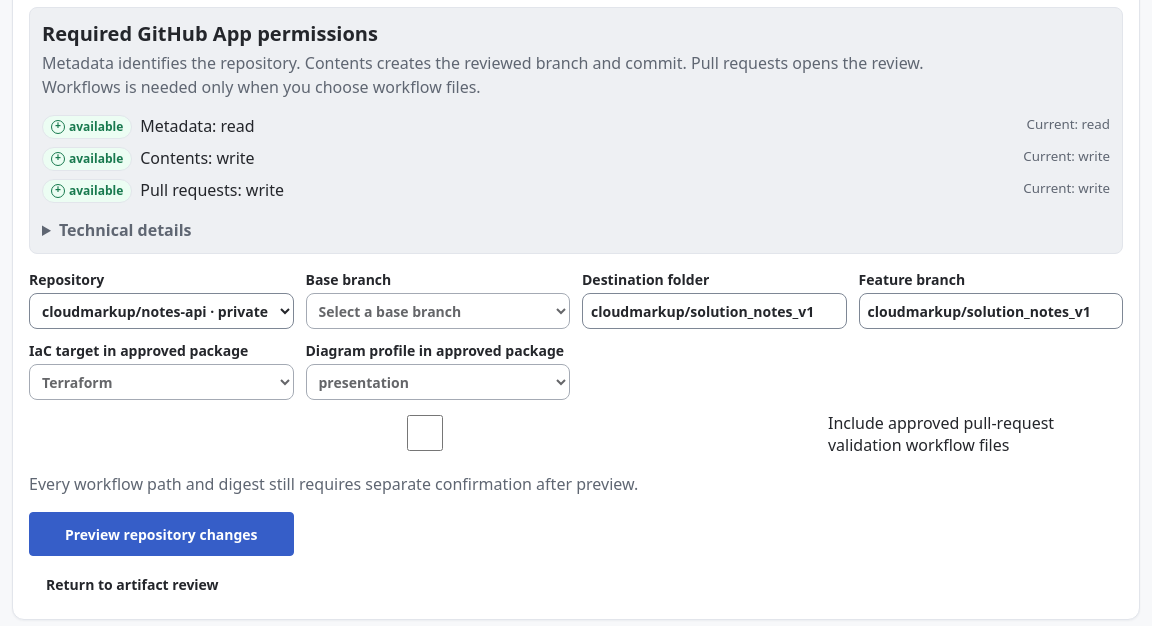
Scenario: GitHub export experience › keeps user-owned conflicts, large diagrams, and stale Evidence visible as blocking review facts
(page scrolled)
Click the button "Preview repository changes".
click(161, 534)  # box [29, 512, 294, 556]
(page scrolled)
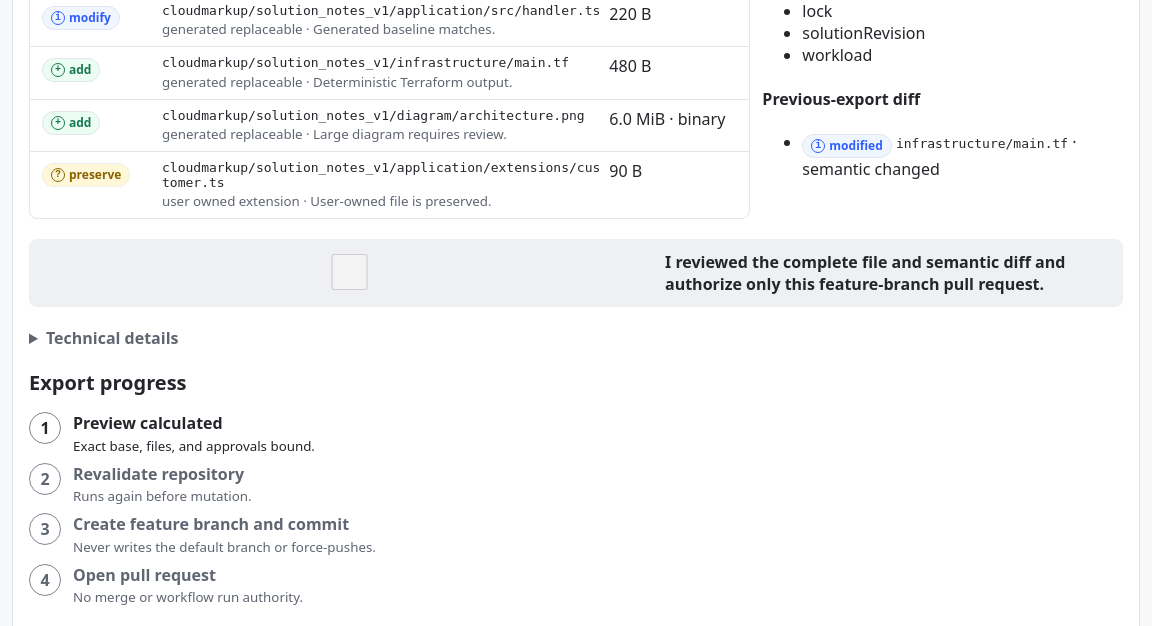
Result: the checkbox labelled "I reviewed the complete file and semantic diff" is disabled at [45, 254, 654, 290]
